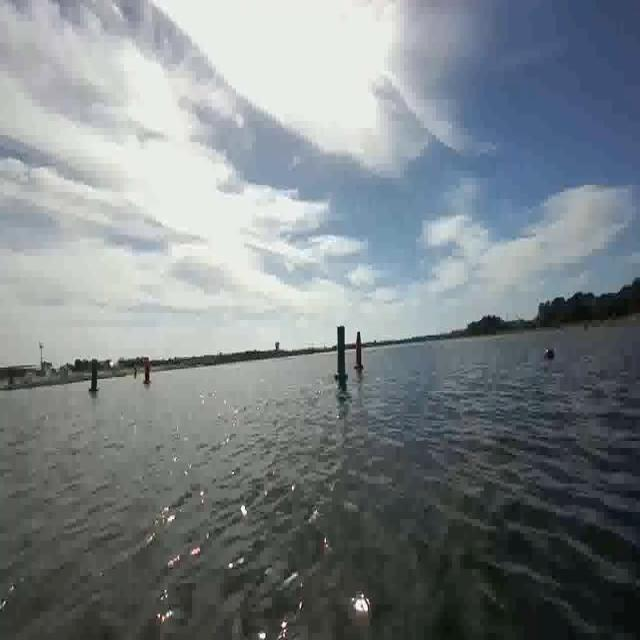black-buoy: (543, 345, 555, 362)
green-column-buoy: (334, 324, 350, 387), (90, 362, 101, 394)
red-column-buoy: (352, 328, 364, 372), (142, 356, 152, 385)
